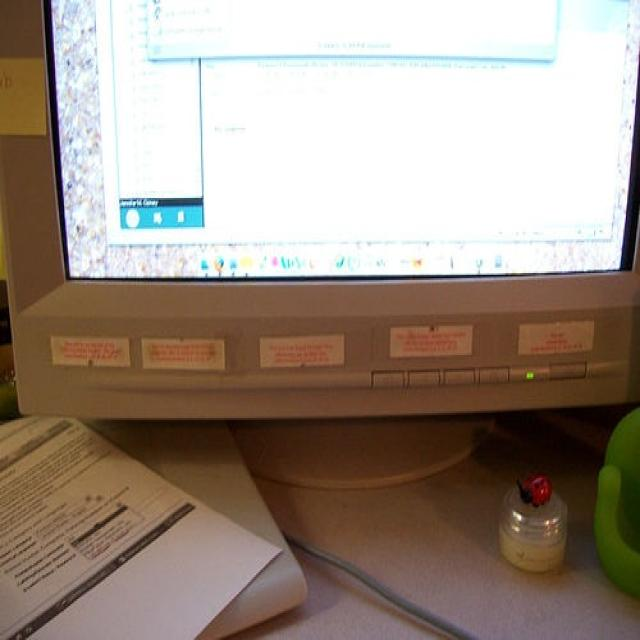tvmonitor: (0, 2, 639, 488)
